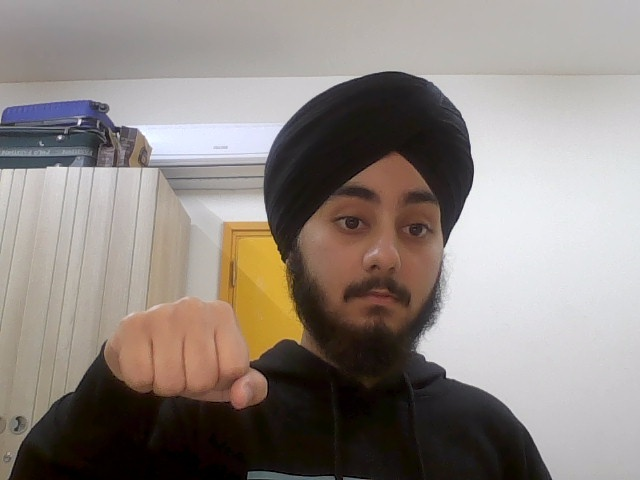Yes: (102, 287, 277, 420)
